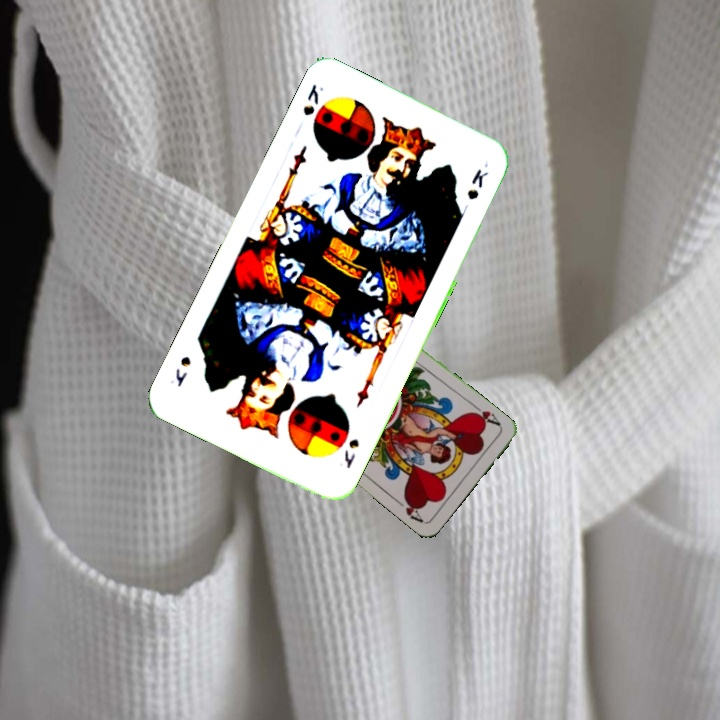HA: (466, 400, 503, 429)
SK: (299, 80, 326, 119), (340, 434, 362, 471)
